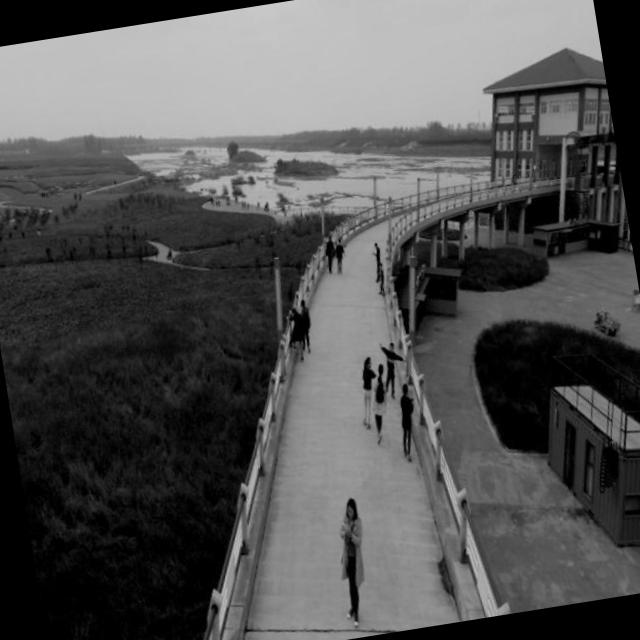person: (322, 494, 382, 628), (362, 361, 398, 448), (390, 379, 426, 464), (352, 355, 390, 432), (372, 338, 414, 403), (278, 304, 312, 365), (293, 298, 318, 354)
